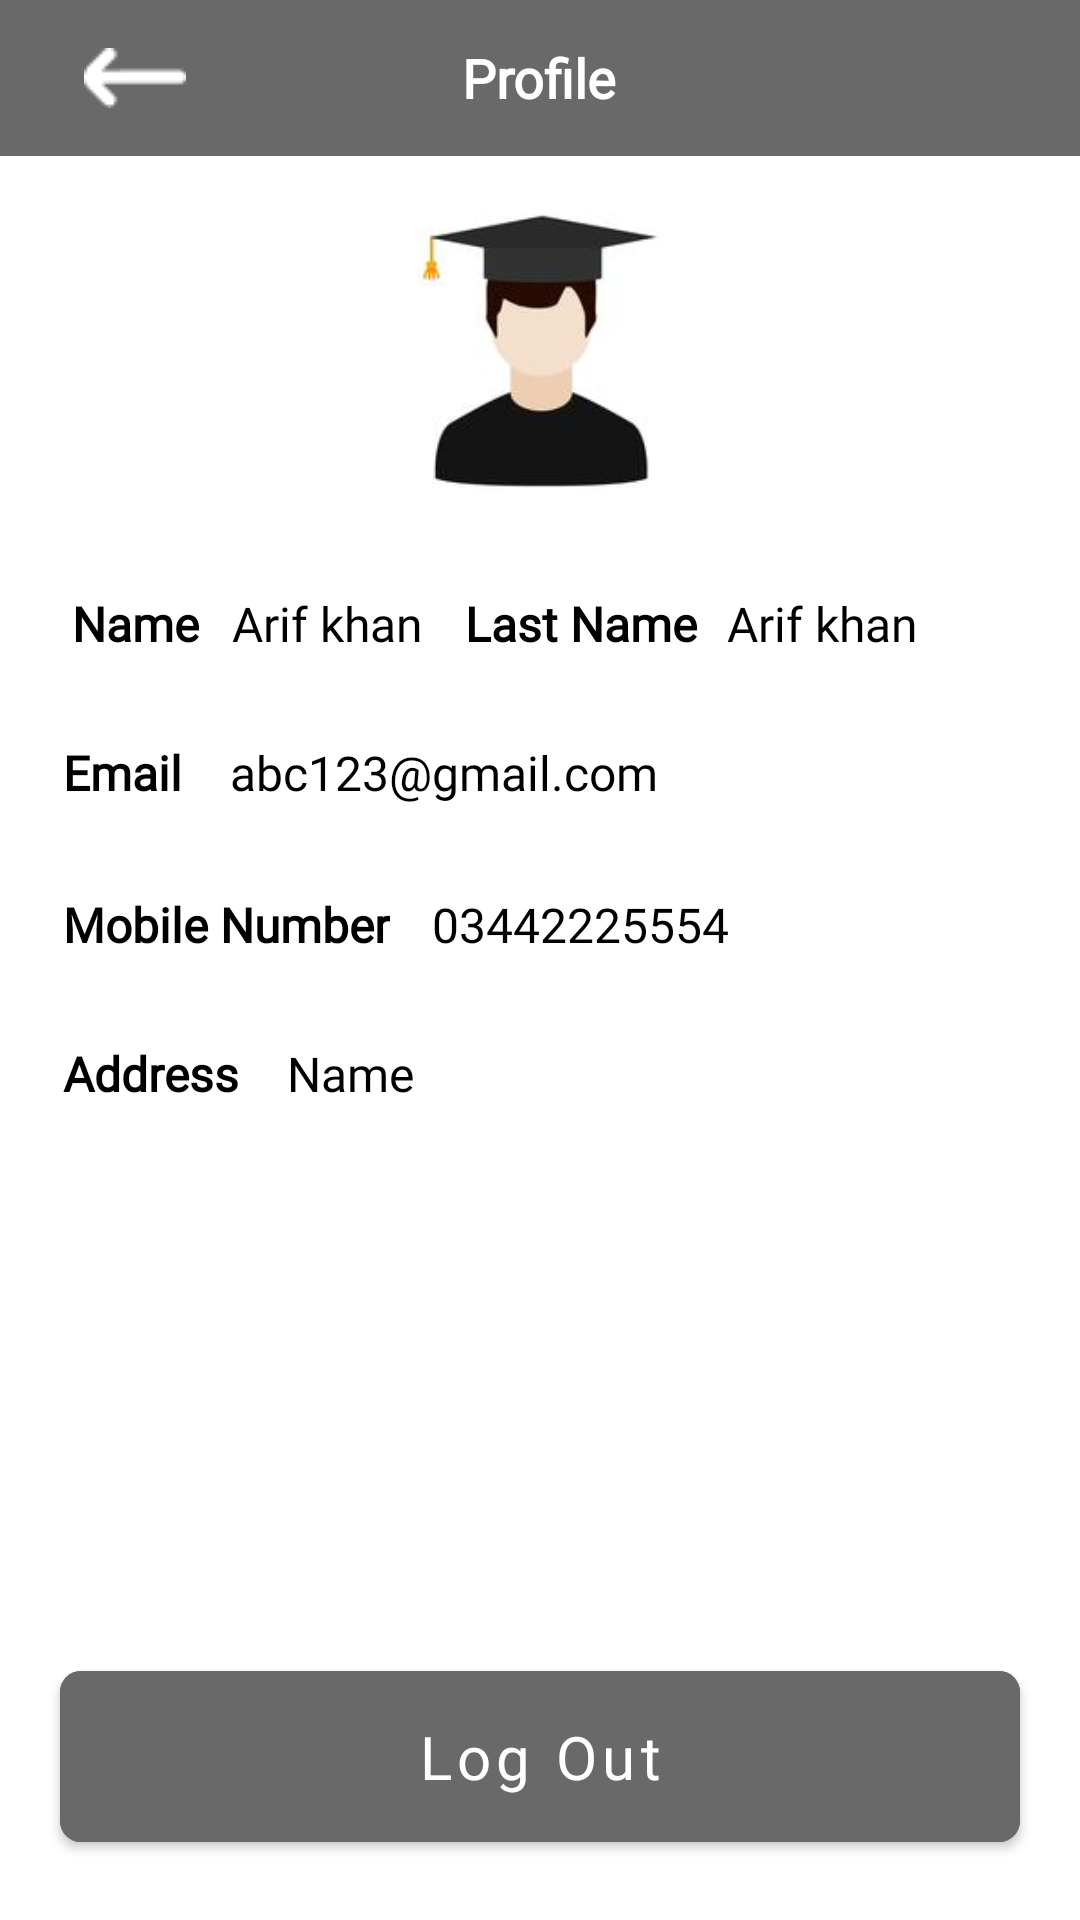

Icons on this 1080w x 1920h Android screen, each with its box as (x1, y1, x2, y2):
arrow left: (84, 48, 186, 108)
